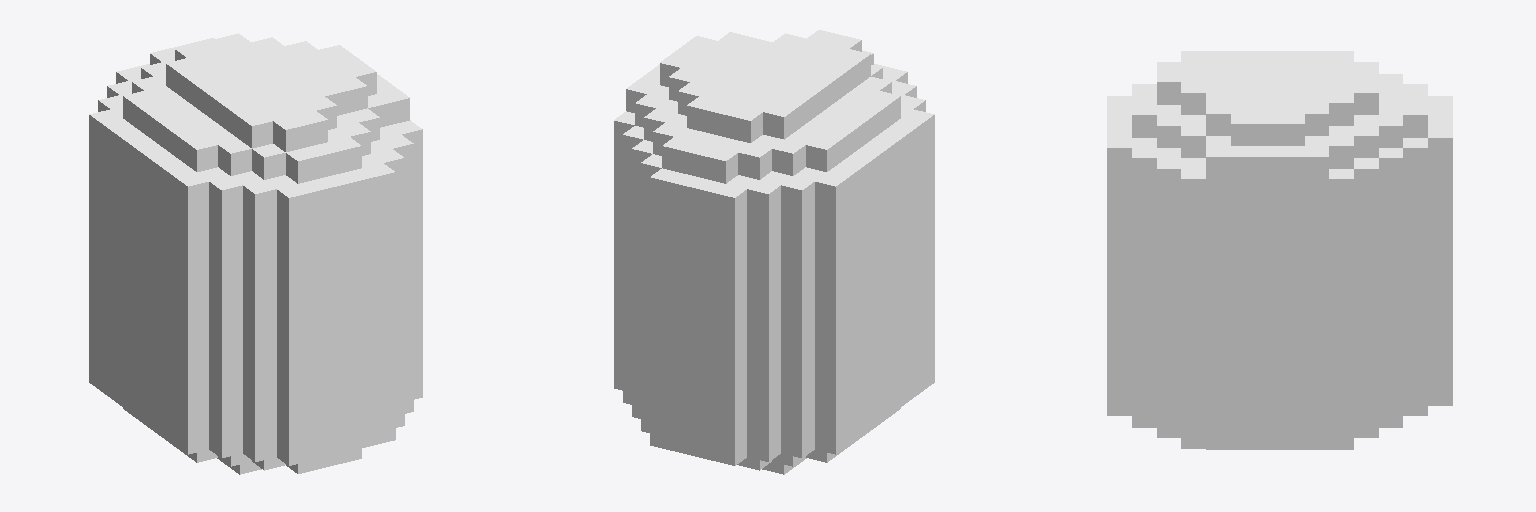
File: Ghost.obj
3 views of the same model, side by side, from view 1: azimuth 30°, elevation 25°; view 2: azimuth 150°, elevation 25°; view 3: azimuth 270°, elevation 25° (orthographic).
Visible parts, largest first — view 1: object 1; view 2: object 1; view 3: object 1.
Boxes of the visible parts, x1=… form: object 1: x1=89, y1=33, x2=422, y2=474; object 1: x1=614, y1=30, x2=934, y2=474; object 1: x1=1107, y1=51, x2=1452, y2=449.
Size of the model in its own units: 1.1 by 1.6 by 1.4.